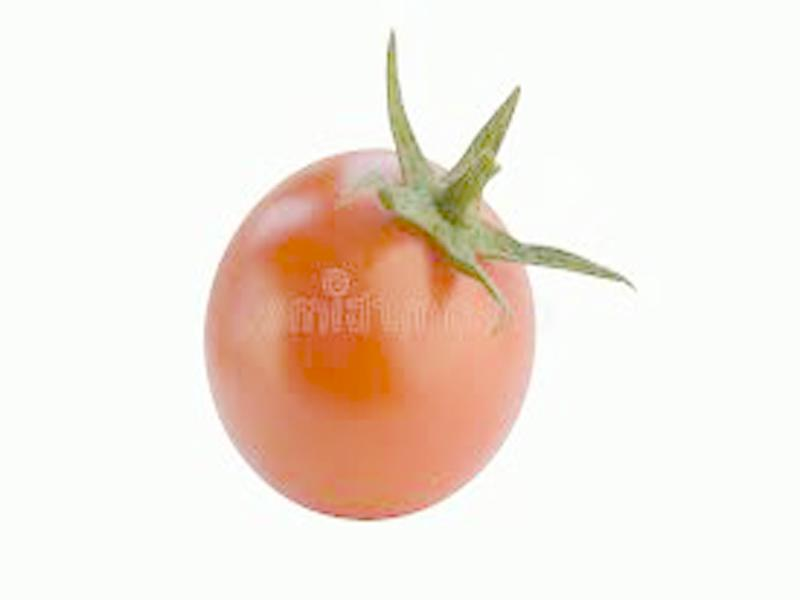Tomato: (203, 151, 531, 521)
